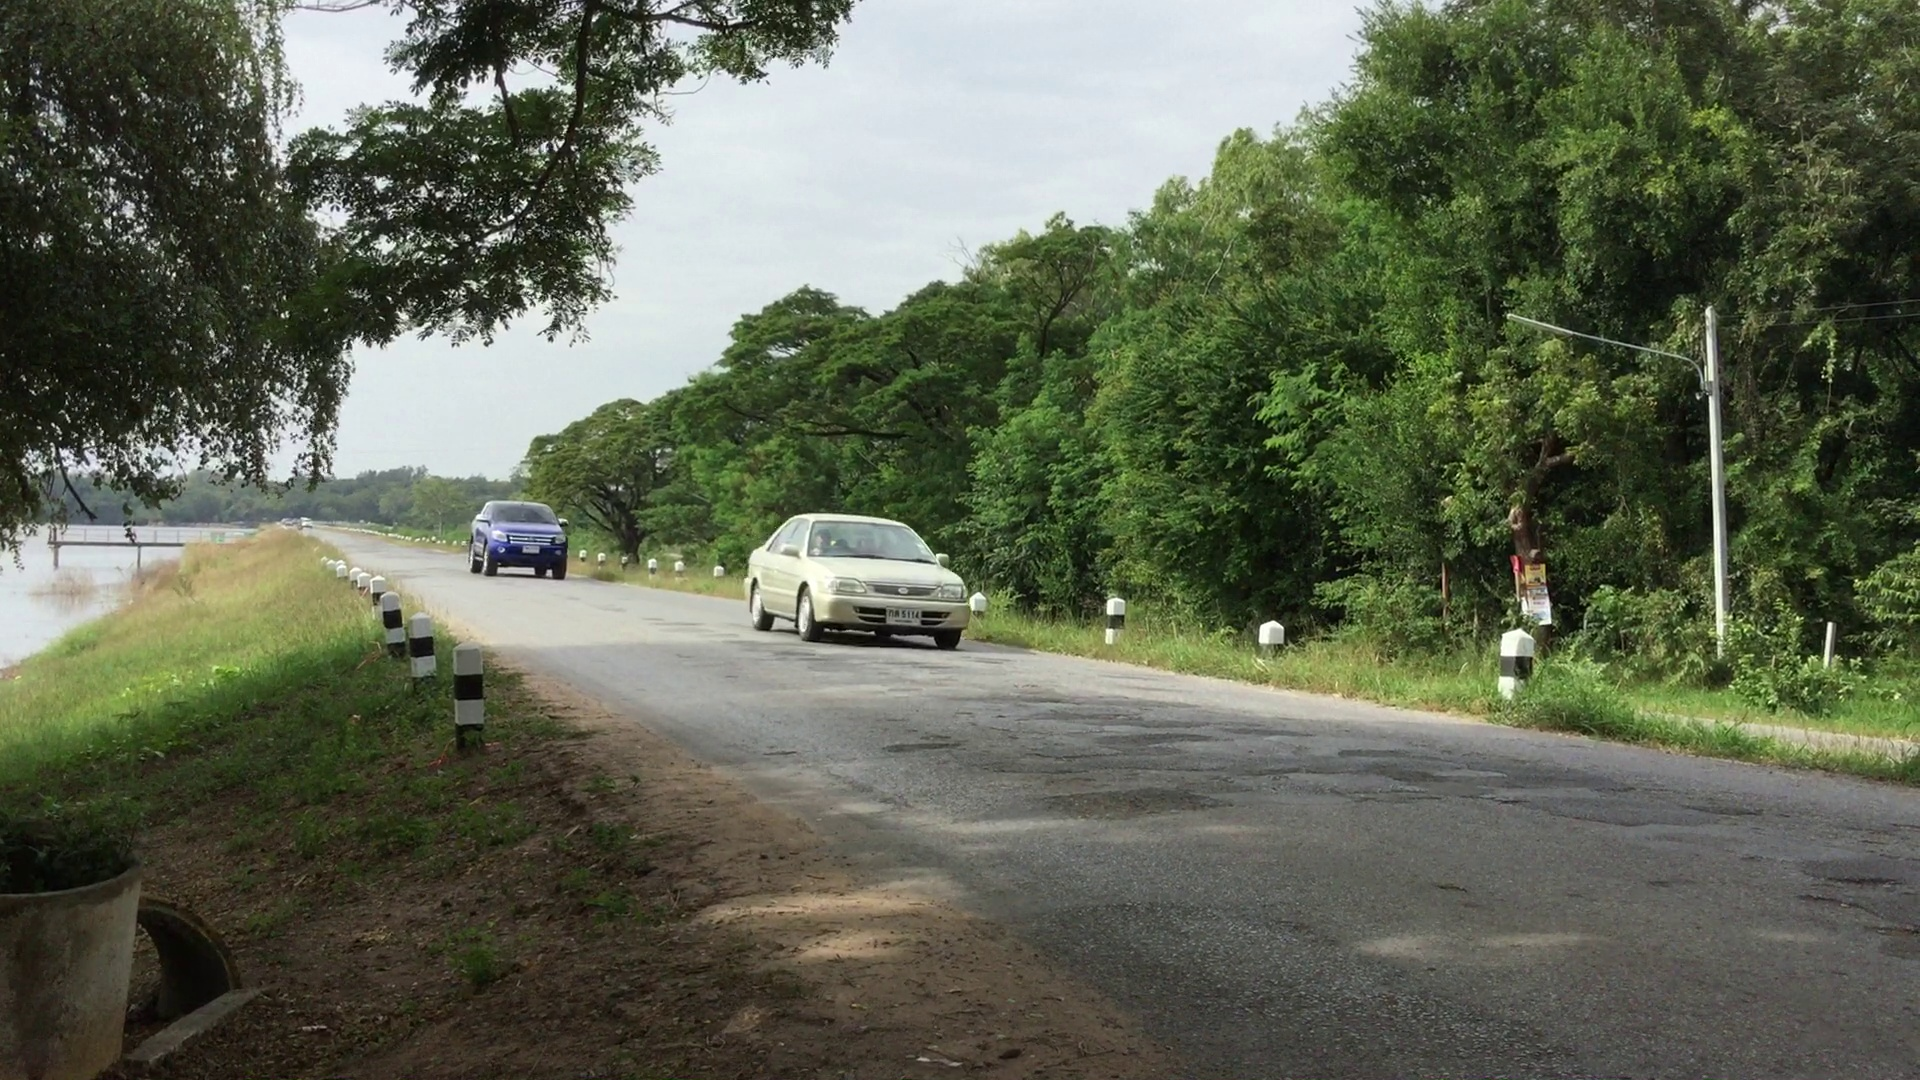car: (742, 512, 975, 647), (469, 498, 572, 584)
